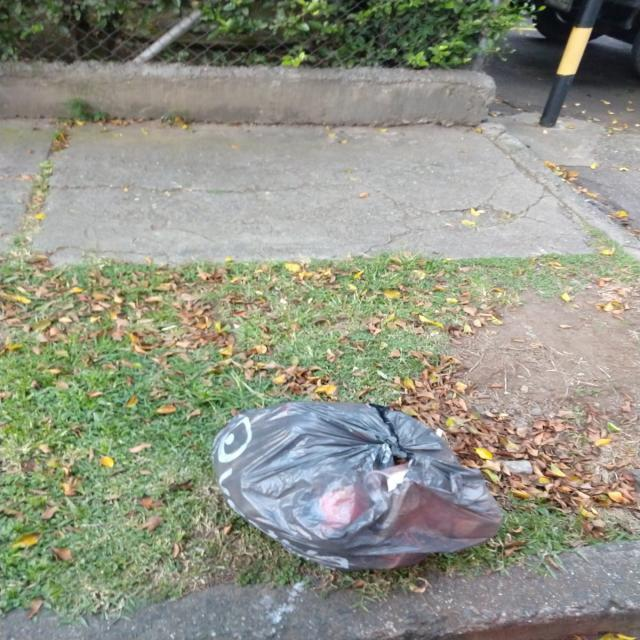Garbage_Bag: (202, 397, 516, 572)
